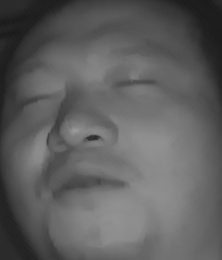blink: (14, 85, 63, 110), (110, 72, 160, 94)
mouth: (42, 163, 131, 201)
